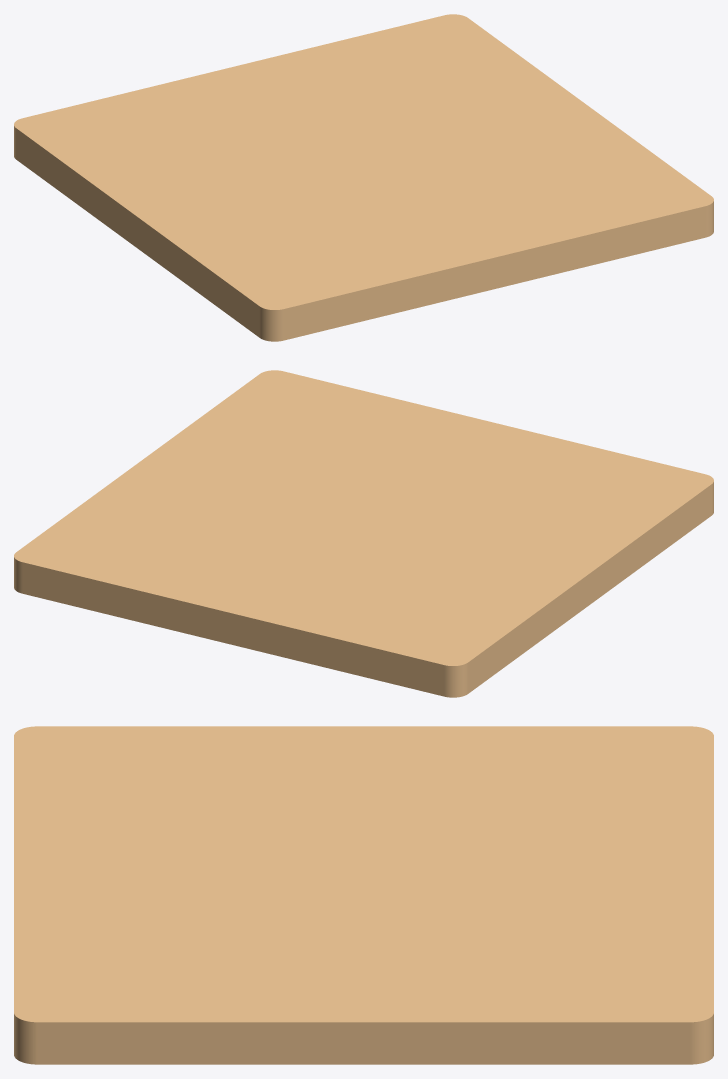
3 renders of one model, top to bottom at view 1: azimuth 30°, elevation 25°; view 2: azimuth 150°, elevation 25°; view 3: azimuth 270°, elevation 25°, orthographic. The views are drawn at different scales.
Visible parts, largest first — view 1: out; view 2: out; view 3: out.
Boxes of the visible parts, x1,y1,x2,y2 form: out: (14,14,713,341); out: (14,370,713,697); out: (14,726,713,1064).
Size of the model in its own units: 0.09 by 0.006 by 0.09.
